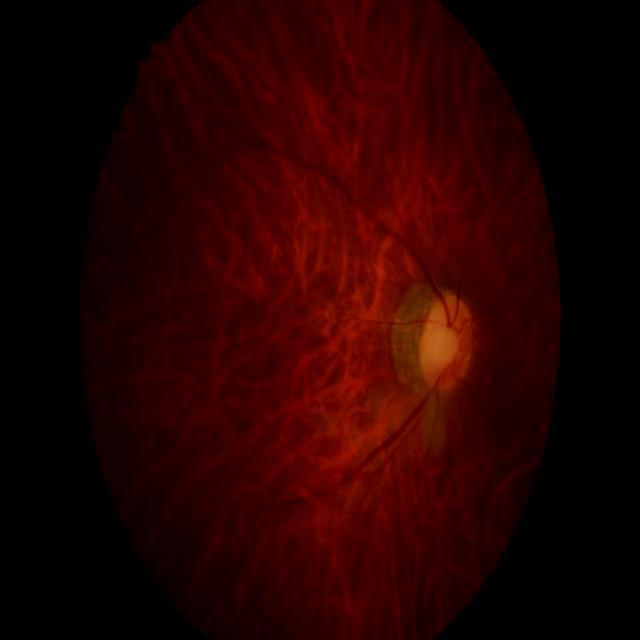cup: (422, 302, 462, 367)
disk: (418, 292, 473, 391)
